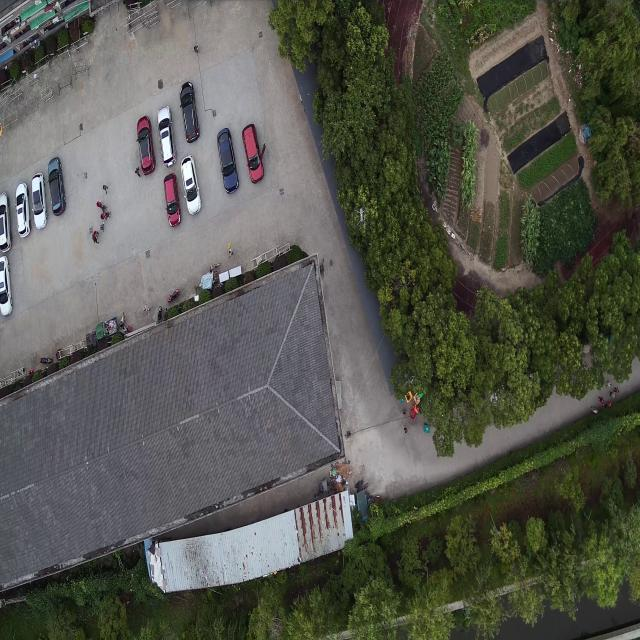UAV: (355, 208, 367, 225)
